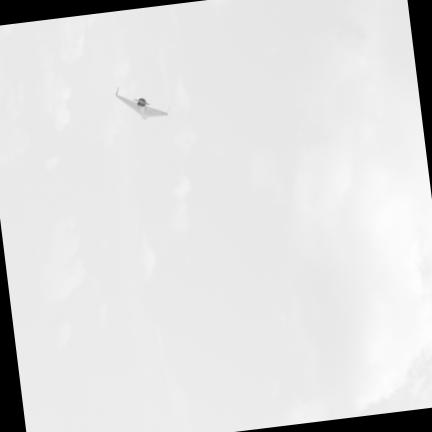Shahed: (115, 87, 166, 119)
